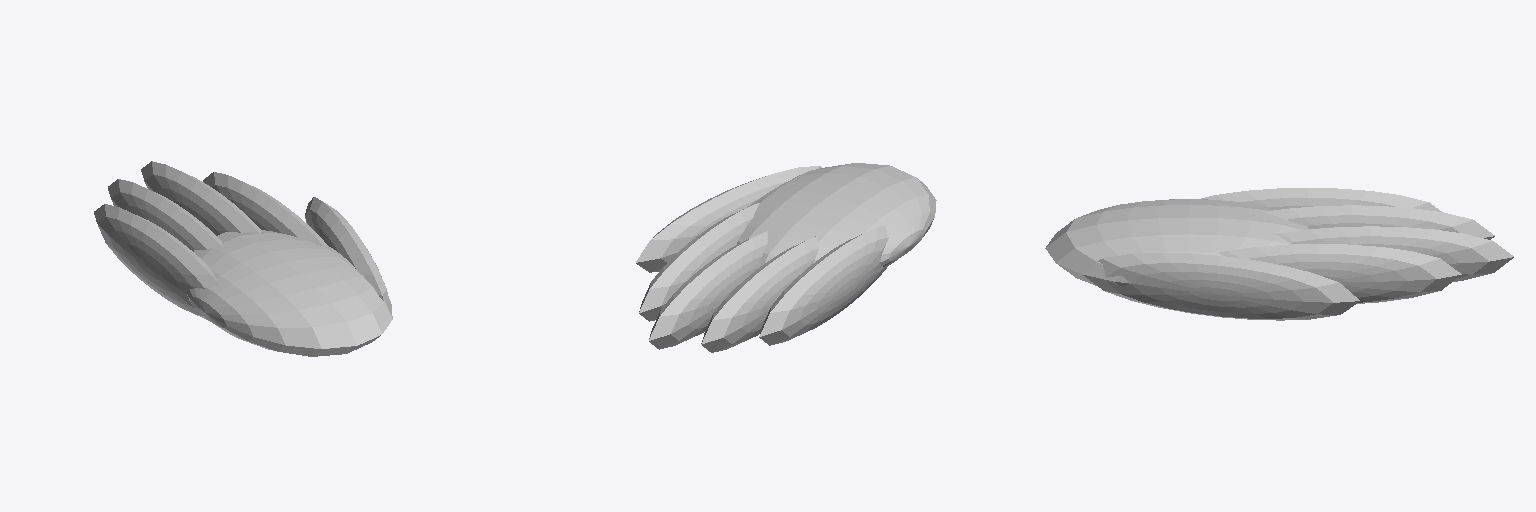
The model's file is HAND.obj.
3 renders of one model, left to right at view 1: azimuth 30°, elevation 25°; view 2: azimuth 150°, elevation 25°; view 3: azimuth 270°, elevation 25°, orthographic.
Size of the model in its own units: 0.0632 by 0.0193 by 0.1337.